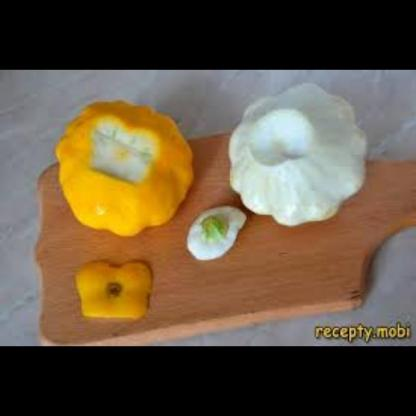squash-patisson: (225, 79, 372, 234), (53, 95, 192, 236), (65, 250, 169, 323), (173, 198, 246, 263)
